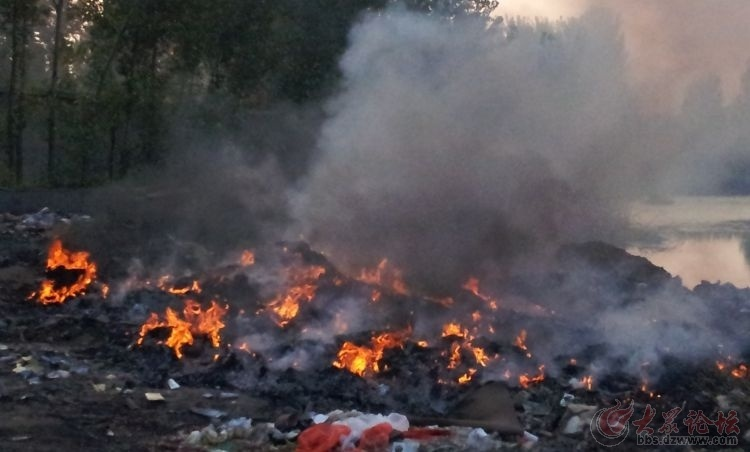fire: (324, 267, 555, 385), (27, 238, 105, 305), (715, 352, 750, 380)
